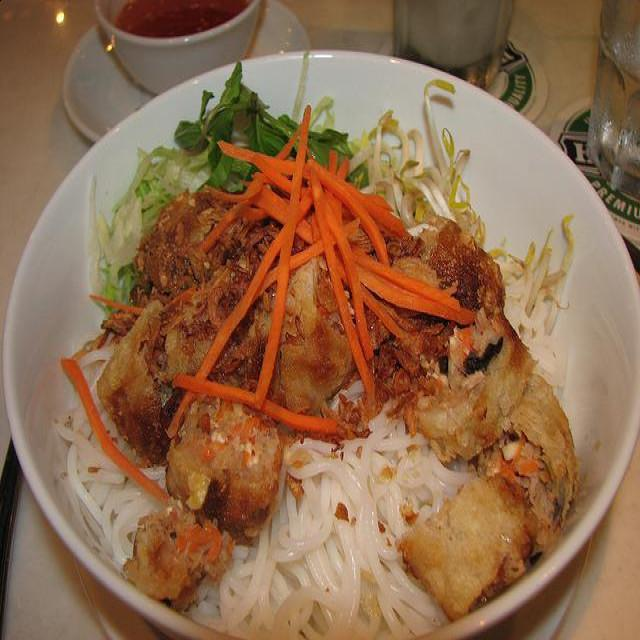bowl: (3, 50, 640, 633)
carrot: (168, 107, 479, 441), (60, 351, 168, 504)
cup: (89, 0, 262, 96), (587, 0, 640, 199), (394, 0, 514, 71)
fork: (0, 434, 25, 629)
